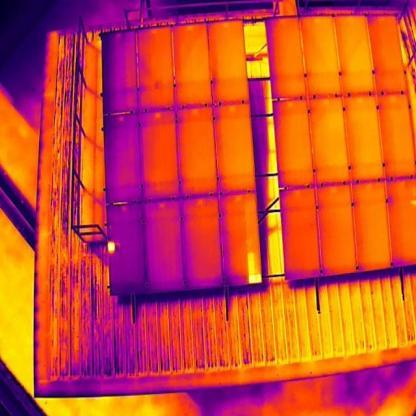anomaly: (245, 253, 265, 285), (105, 238, 118, 254)
